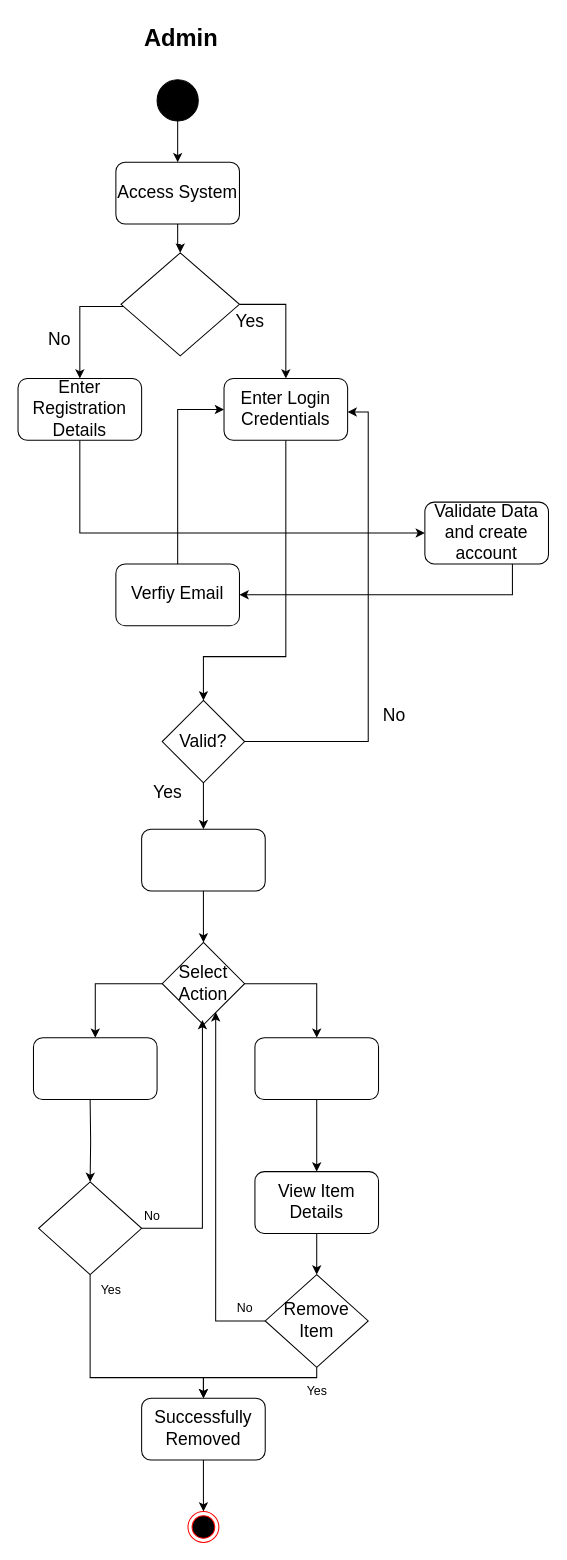
Image size: 567x1560. Some labels were removed from this diagram. The shapes that lost their labels are listed below. From the top down, each one's centre as x and y in pixels, then its label:
At (179,304): "Registered?".
At (203,859): "Admin Menu".
At (94,1068): "Manage User".
At (316,1068): "Remove Inappropriate Item".
At (90,1228): "Remove User".
